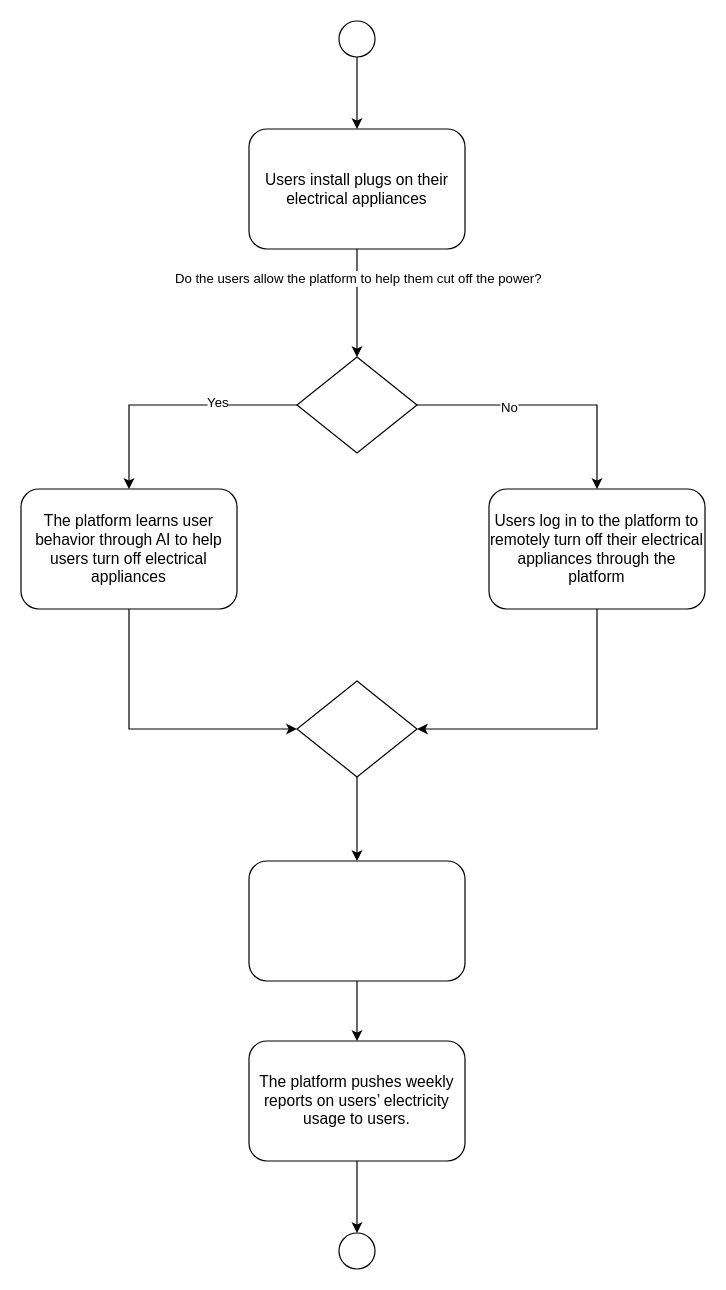
Image size: 726x1290. Some labels were removed from this diagram. Each missing label, with the centre of its shape:
Lamp plugged in?: the point at 356,404
The platform records users' electricity consumption data: the point at 356,920
